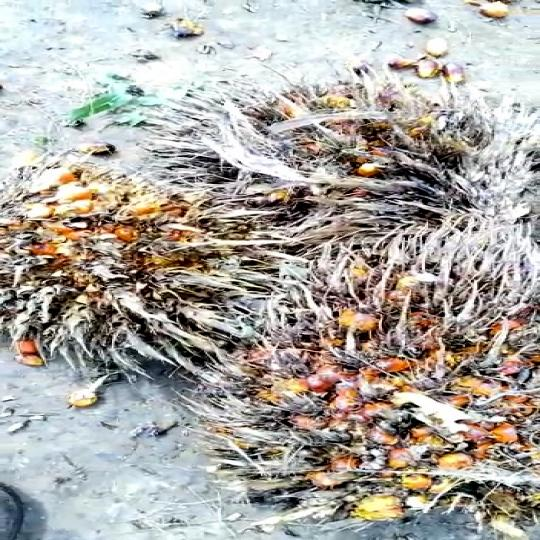terlalu masak: (196, 207, 539, 540), (0, 165, 301, 386), (132, 66, 535, 216)
